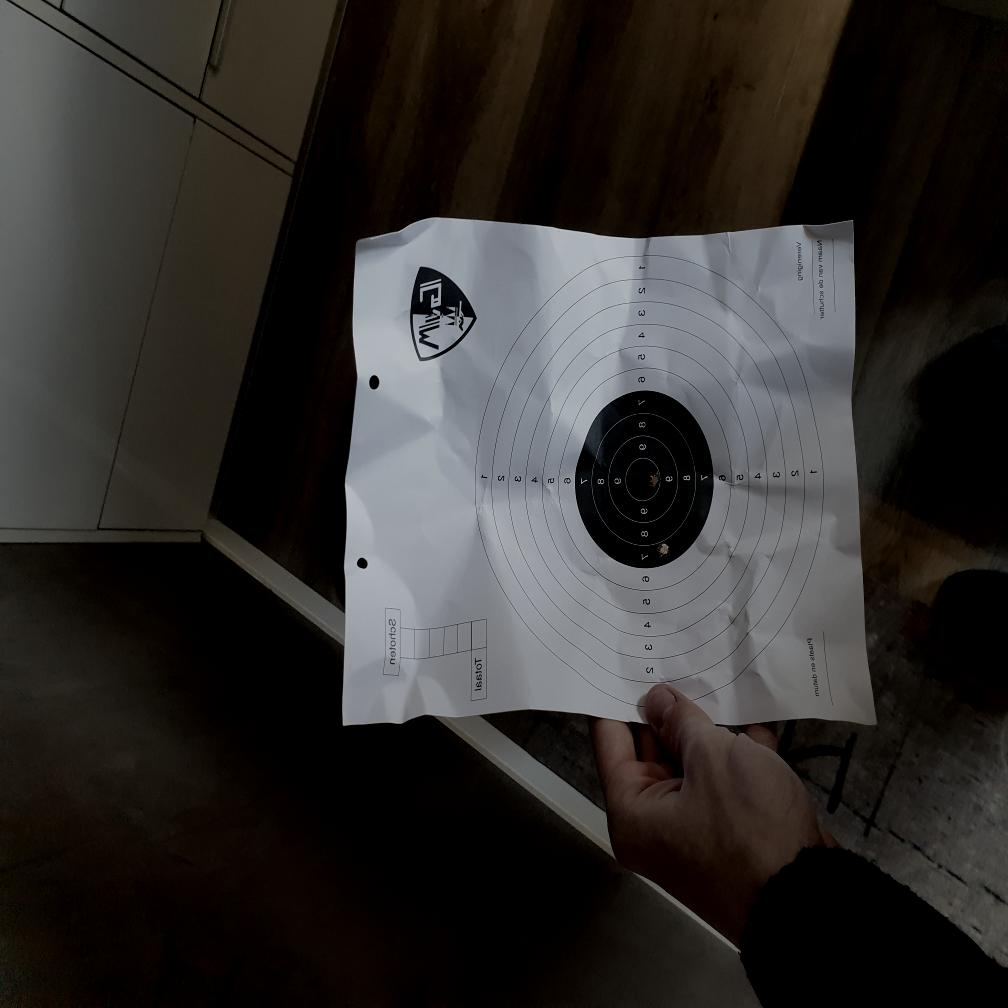10: (649, 471, 661, 488)
7: (657, 542, 670, 557)
black_contour: (475, 253, 826, 700), (574, 390, 714, 568)
